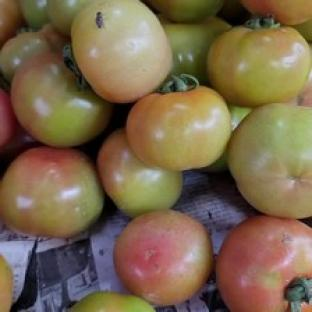Tomato: (113, 209, 213, 306), (126, 78, 231, 169), (0, 147, 104, 238), (228, 104, 311, 218), (12, 53, 112, 147), (207, 17, 310, 107), (216, 215, 311, 311), (97, 129, 182, 217), (161, 16, 231, 84), (0, 24, 69, 82), (0, 123, 41, 169), (69, 292, 154, 311), (0, 88, 18, 151), (290, 69, 311, 105), (0, 254, 13, 311), (201, 151, 228, 172), (293, 17, 311, 43)
